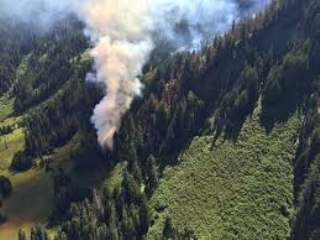smoke: (76, 18, 149, 151)
